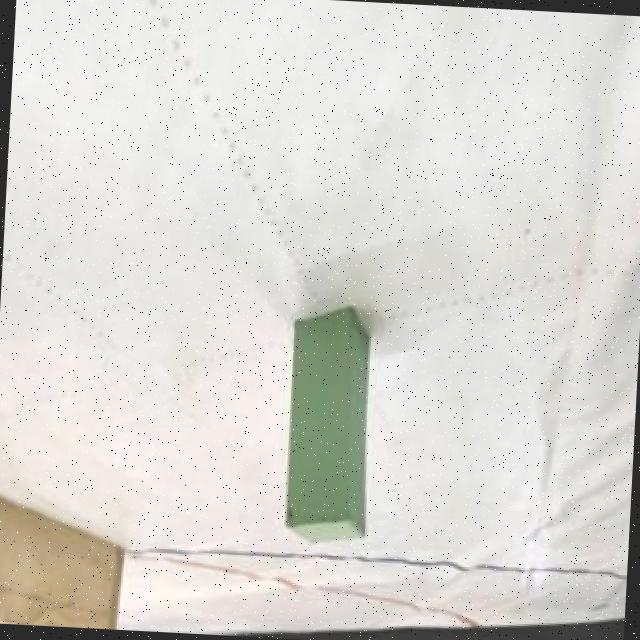greenbox: (280, 303, 382, 552)
